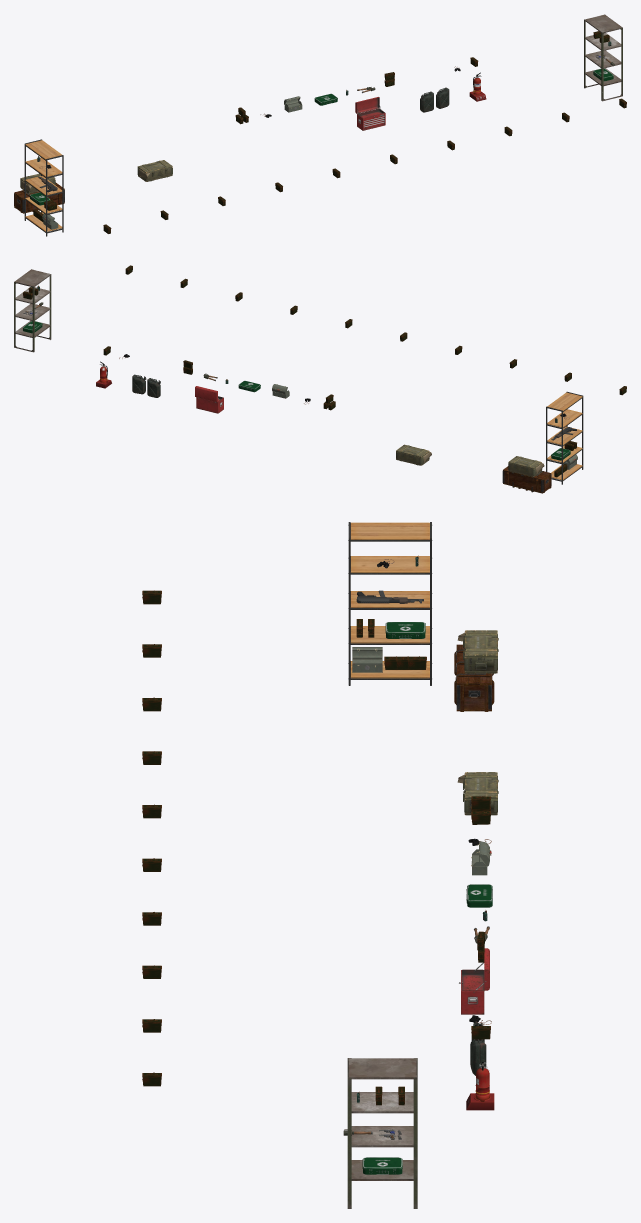
Rendered from decor.glb.
3 views of the same model, one above another, from view 1: azimuth 30°, elevation 25°; view 2: azimuth 150°, elevation 25°; view 3: azimuth 270°, elevation 25° (orthographic). The views are drawn at different scales.
Parts seen in each view (by area): view 1: Decor_steel_frame_shelves_01_20, Decor_worn_metal_rack_31, Decor_metal_tool_chest_16, Decor_old_military_crate_15, Decor_wooden_military_crate_13; view 2: Decor_steel_frame_shelves_01_20, Decor_worn_metal_rack_31, Decor_wooden_military_crate_13, Decor_metal_tool_chest_16, Decor_old_military_crate_14, Decor_old_military_crate_15; view 3: Decor_steel_frame_shelves_01_20, Decor_worn_metal_rack_31, Decor_wooden_military_crate_13, Decor_old_military_crate_14, Decor_metal_tool_chest_16, Decor_old_military_crate_15.
Boxes of the visible parts, x1,y1,x2,y2 form: Decor_steel_frame_shelves_01_20: [24, 139, 63, 236]; Decor_worn_metal_rack_31: [584, 14, 622, 101]; Decor_metal_tool_chest_16: [355, 97, 385, 130]; Decor_old_military_crate_15: [137, 160, 172, 181]; Decor_wooden_military_crate_13: [14, 182, 64, 213]; Decor_steel_frame_shelves_01_20: [546, 391, 583, 484]; Decor_worn_metal_rack_31: [14, 269, 51, 352]; Decor_wooden_military_crate_13: [502, 466, 551, 493]; Decor_metal_tool_chest_16: [195, 386, 223, 413]; Decor_old_military_crate_14: [508, 456, 544, 476]; Decor_old_military_crate_15: [396, 444, 431, 465]; Decor_steel_frame_shelves_01_20: [348, 522, 432, 685]; Decor_worn_metal_rack_31: [347, 1058, 417, 1208]; Decor_wooden_military_crate_13: [454, 644, 494, 711]; Decor_old_military_crate_14: [457, 630, 498, 673]; Decor_metal_tool_chest_16: [459, 948, 489, 1014]; Decor_old_military_crate_15: [457, 772, 498, 815].
Size of the model in its own units: 1670 by 214 by 467.
23 materials, 19 textured.
